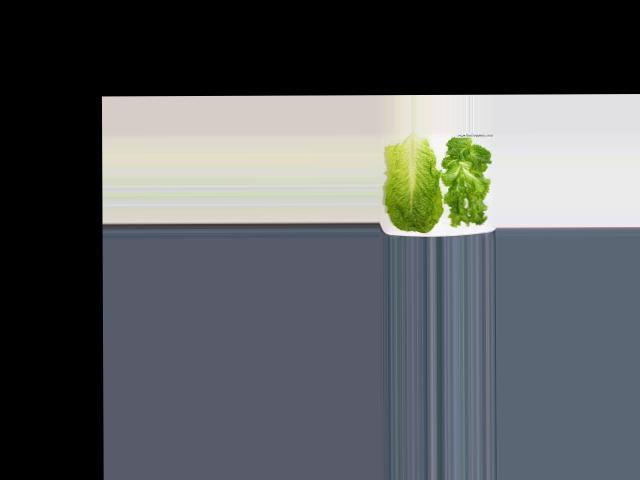lettuce: (443, 140, 497, 227)
